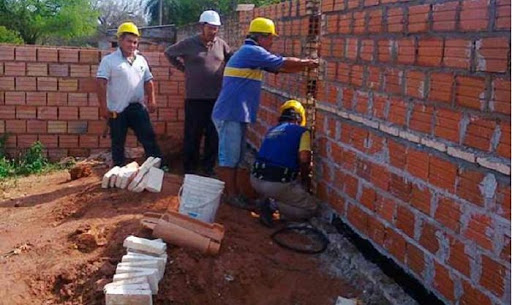casco: (279, 99, 306, 127), (249, 17, 280, 38), (116, 21, 140, 37), (198, 10, 221, 26)
